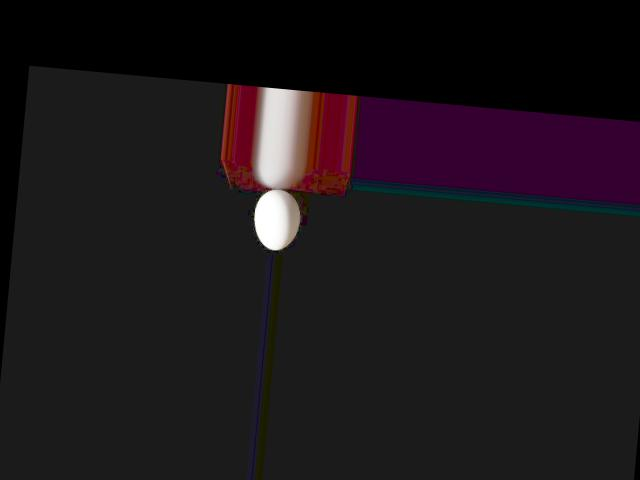egg: (251, 186, 301, 251)
